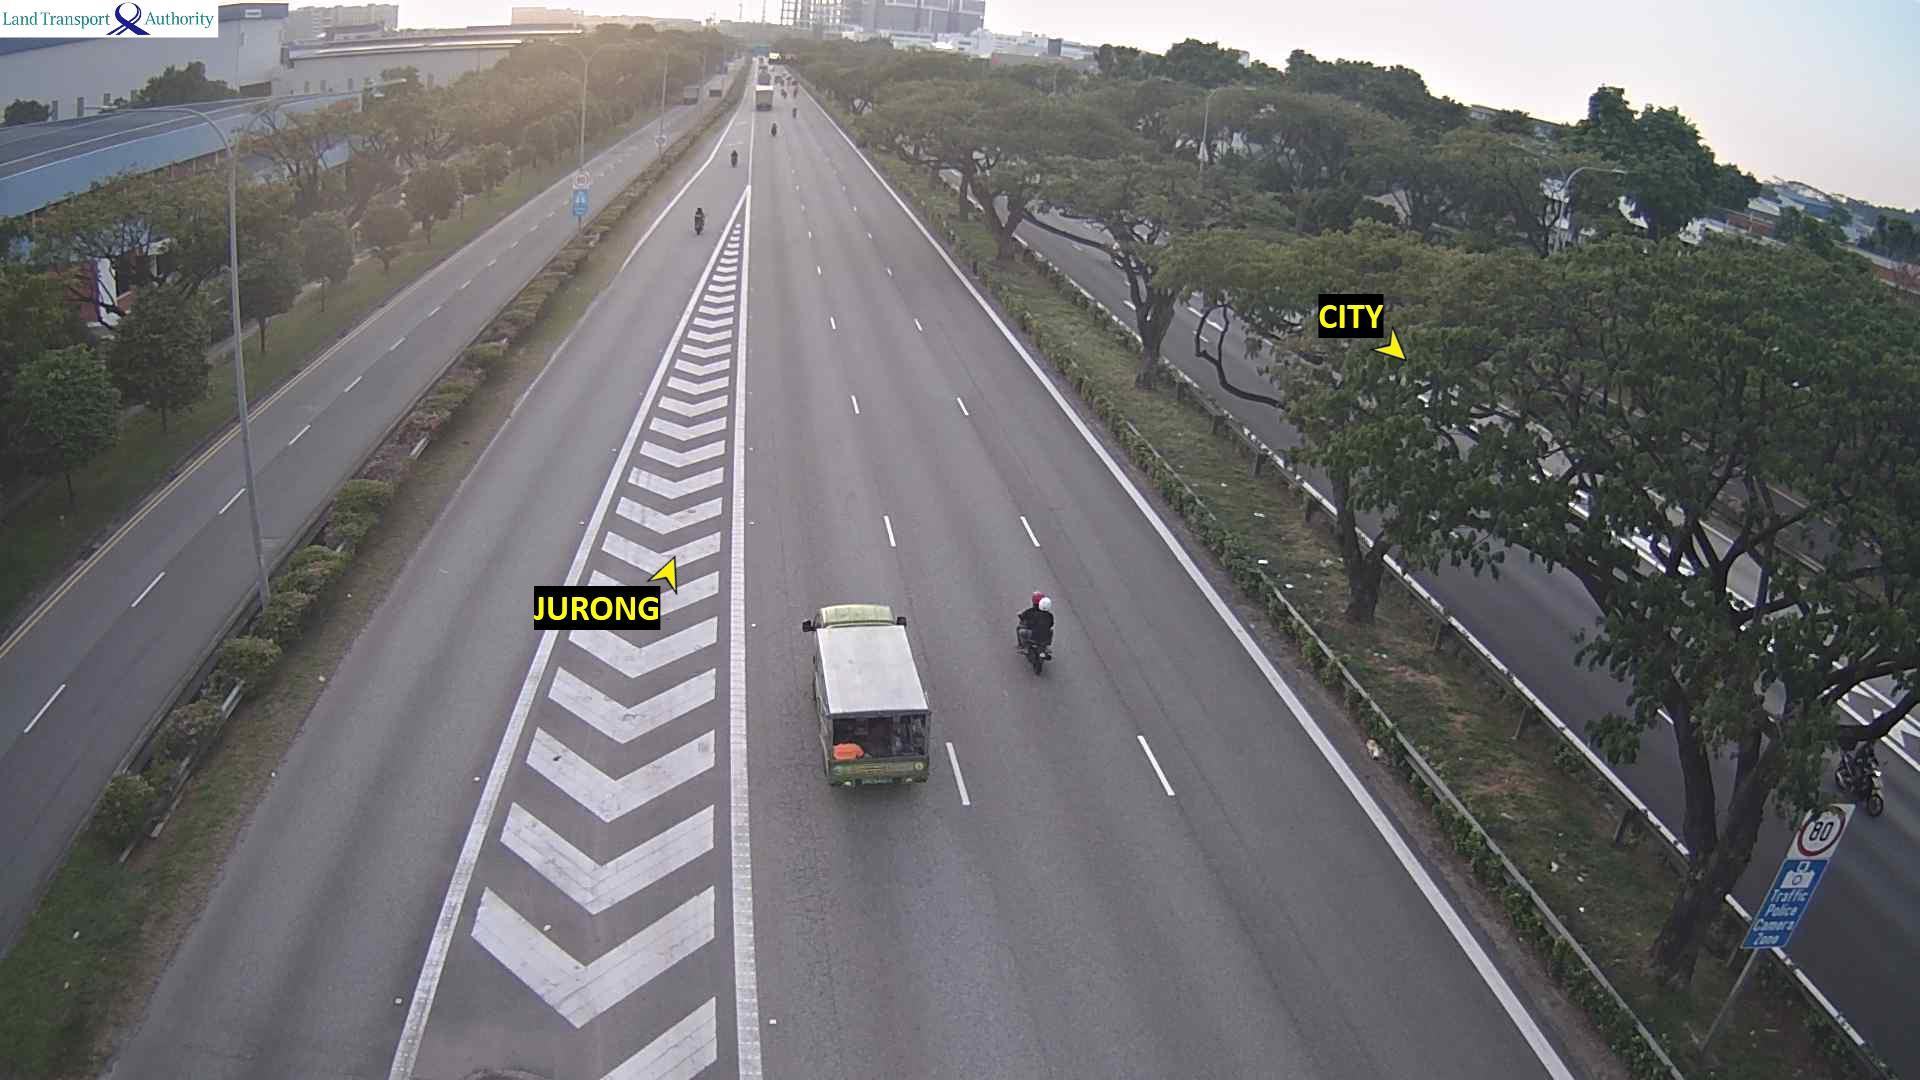bus: (757, 65, 770, 84)
cars: (791, 80, 800, 87)
motorcycle: (1833, 738, 1884, 818), (1014, 617, 1054, 676), (687, 200, 709, 236), (720, 145, 744, 170), (766, 121, 783, 140), (790, 103, 800, 121), (793, 87, 798, 99), (783, 91, 787, 100)
trucks: (800, 603, 932, 789), (754, 86, 773, 112), (705, 74, 724, 98), (682, 82, 699, 103)
